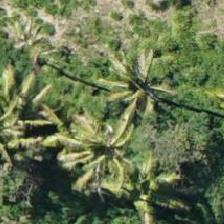coconut_tree: (92, 50, 182, 140), (57, 103, 147, 193), (0, 77, 59, 167)
